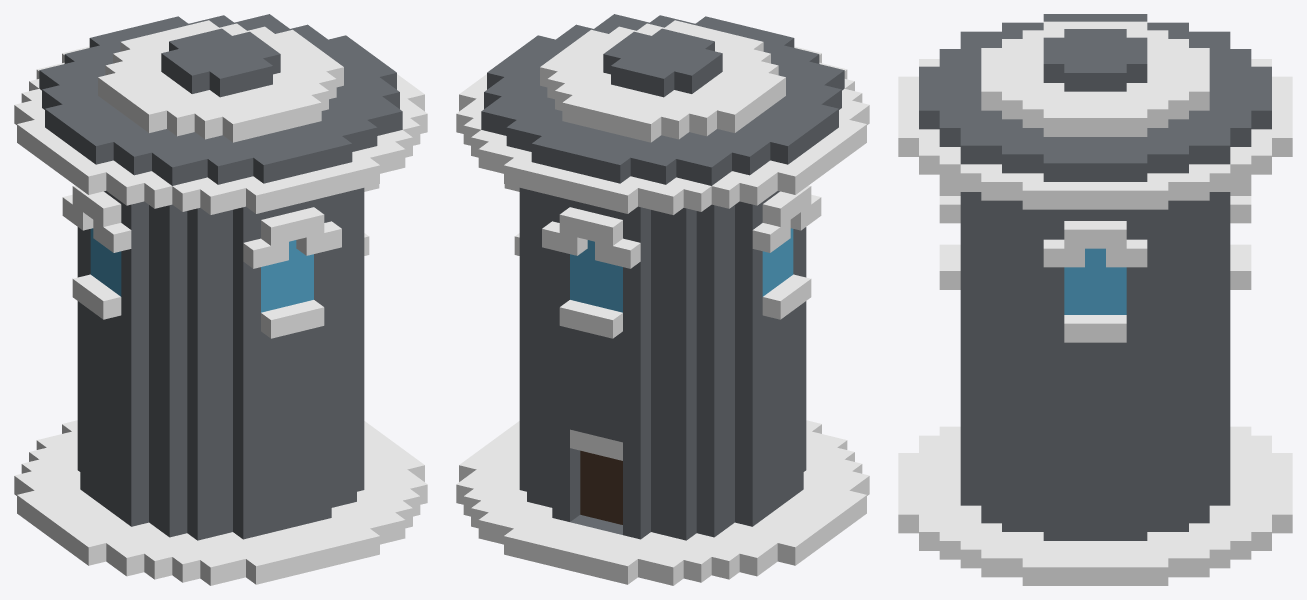
File: StoneTower.obj
The picture shows the model from 3 angles, left to right: view 1: azimuth 30°, elevation 25°; view 2: azimuth 150°, elevation 25°; view 3: azimuth 270°, elevation 25°; orthographic projection.
Bounding box in the file's own units: 1.9 × 2.4 × 1.9.
1 material, 1 textured.
